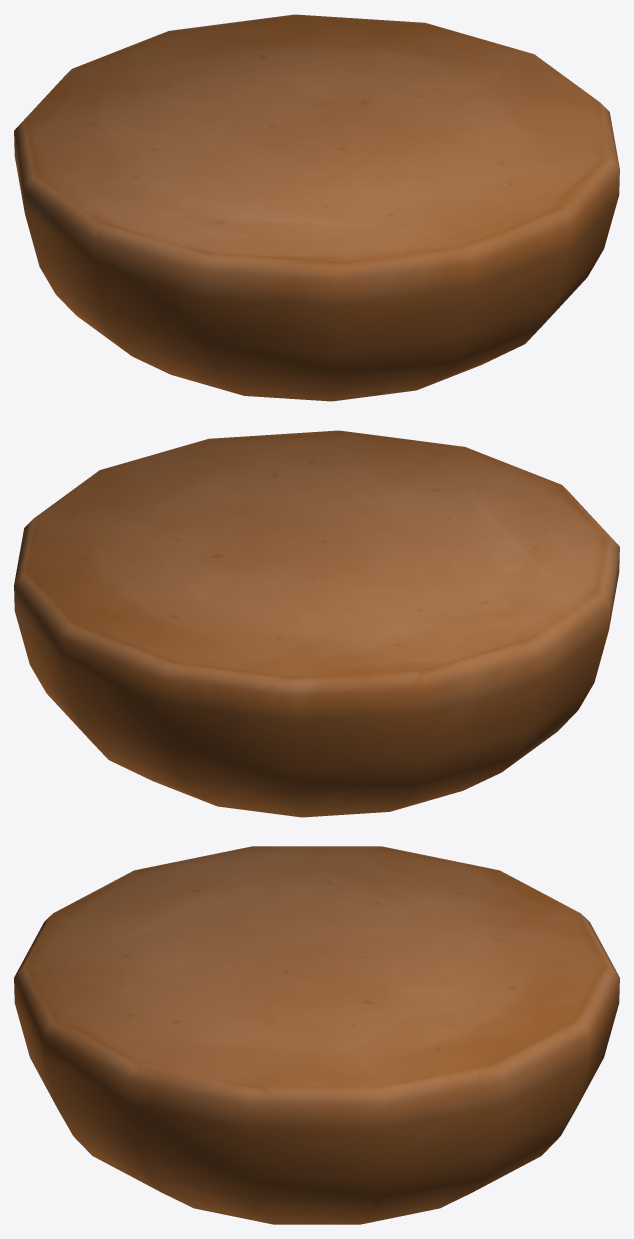
The model's file is MSH_Pan_Tapa.fbx.
3 views of the same model, one above another, from view 1: azimuth 30°, elevation 25°; view 2: azimuth 150°, elevation 25°; view 3: azimuth 270°, elevation 25° (orthographic).
Parts seen in each view (by area): view 1: MSH_Pan_Tapa; view 2: MSH_Pan_Tapa; view 3: MSH_Pan_Tapa.
Part boxes in pixels (x1,y1,x2,y2): MSH_Pan_Tapa: [14, 14, 619, 401]; MSH_Pan_Tapa: [14, 430, 619, 817]; MSH_Pan_Tapa: [14, 846, 619, 1224].
Size of the model in its own units: 14.42 by 14.79 by 5.54.
1 material, 1 textured.
